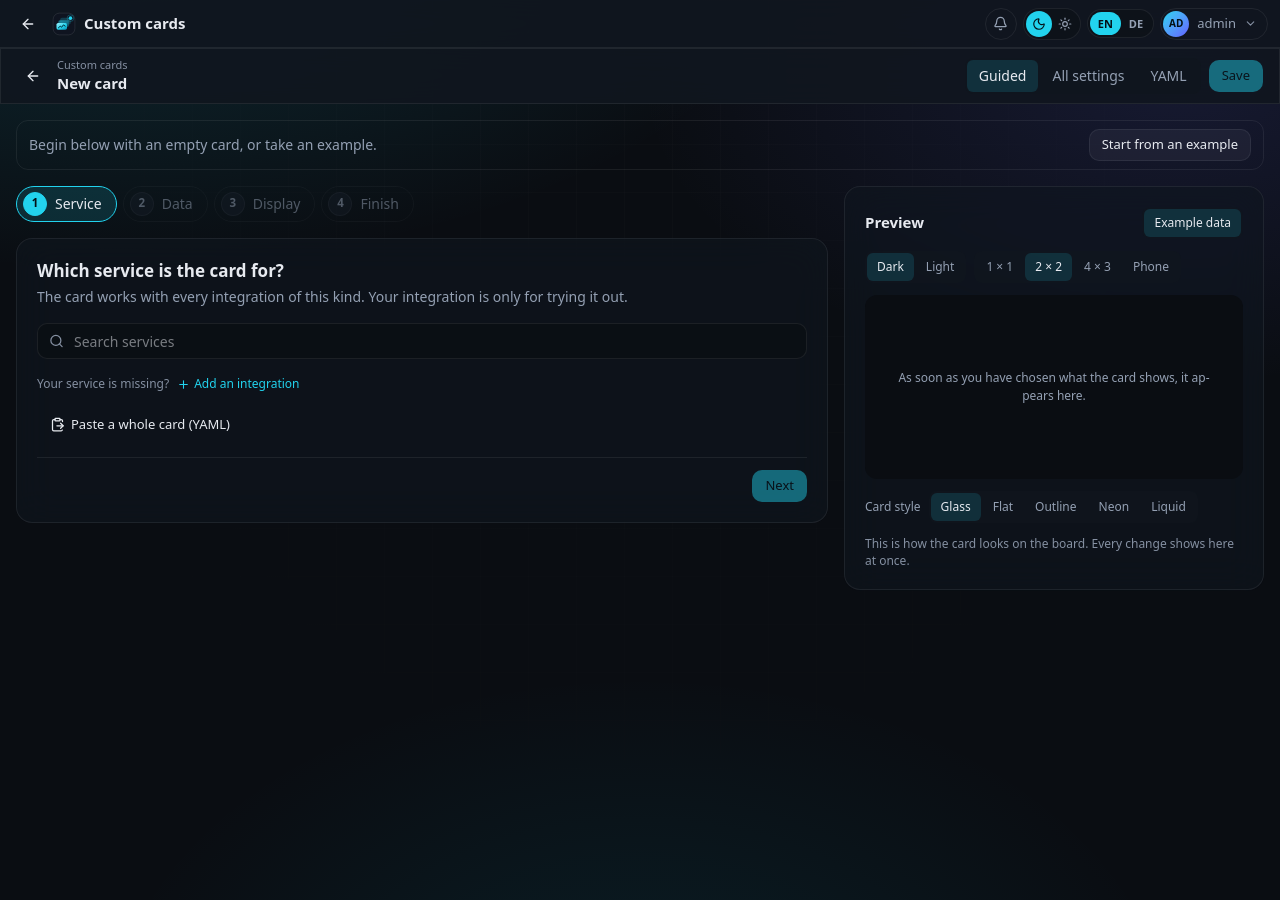
it: karten19 ac4: the card editor › lists the examples of the kind being made, with name, description and picture
Click the button "Start from an example": click(1170, 145) [1089, 129, 1251, 161]
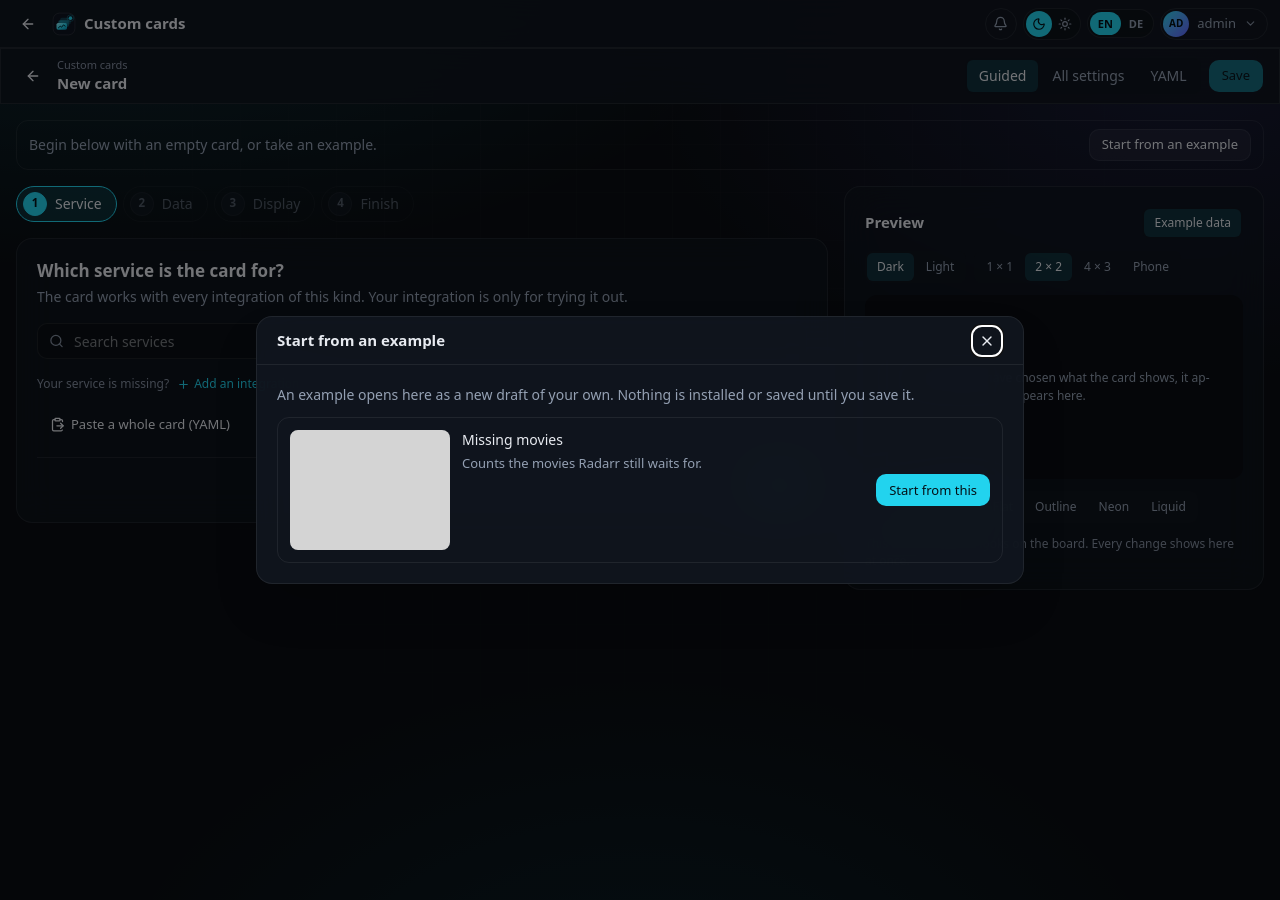
Now the text "Missing movies" is shown, box [462, 430, 563, 449]
Now the text "Counts the movies Radarr still waits for." is shown, box [462, 454, 702, 472]
